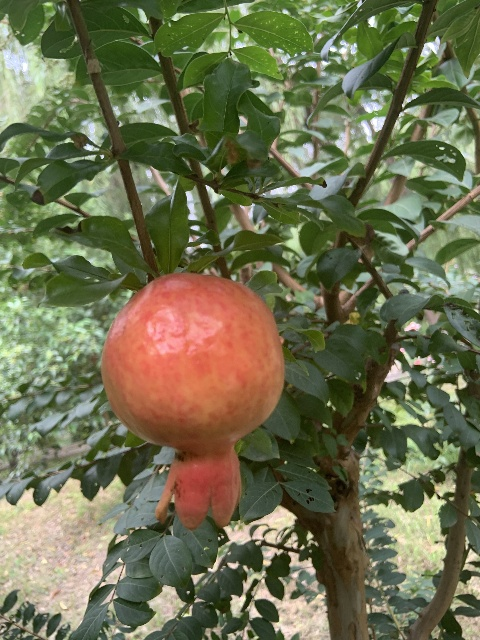ripe: (100, 271, 285, 533)
